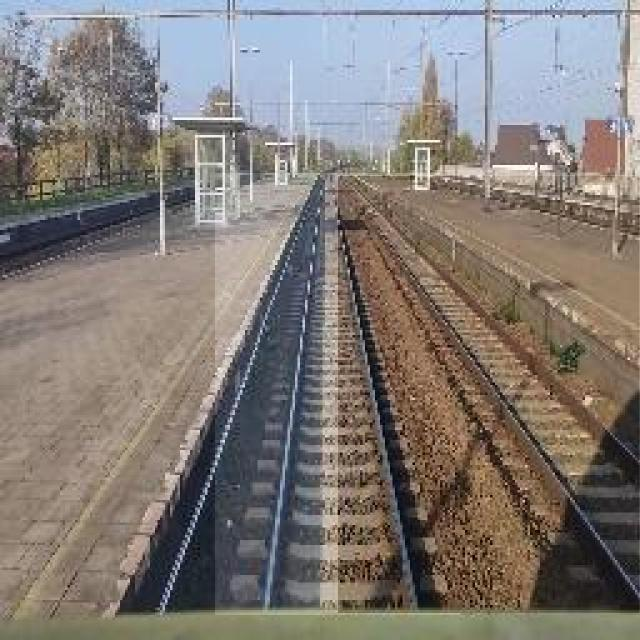rail: (340, 177, 640, 614), (216, 174, 460, 616)
